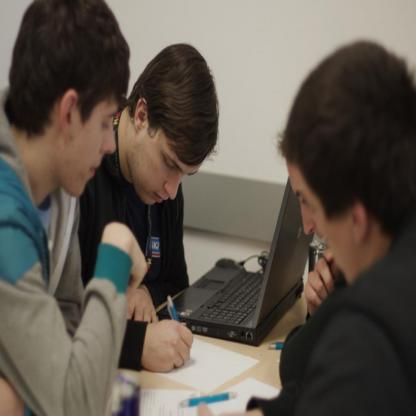board: (155, 175, 315, 348)
